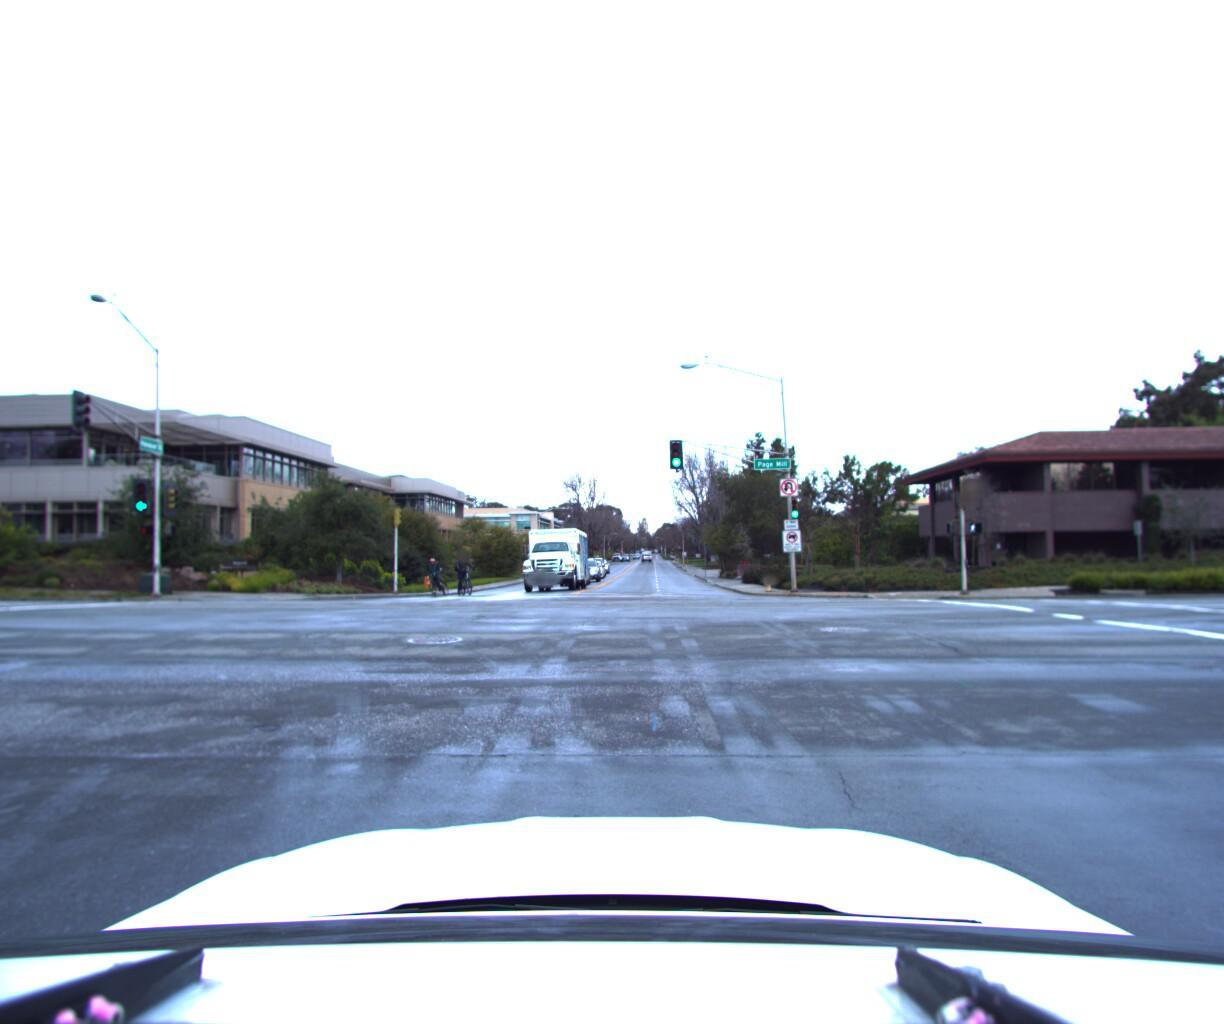bicycle: (422, 553, 458, 598), (455, 551, 475, 596)
truck: (515, 521, 597, 594)
